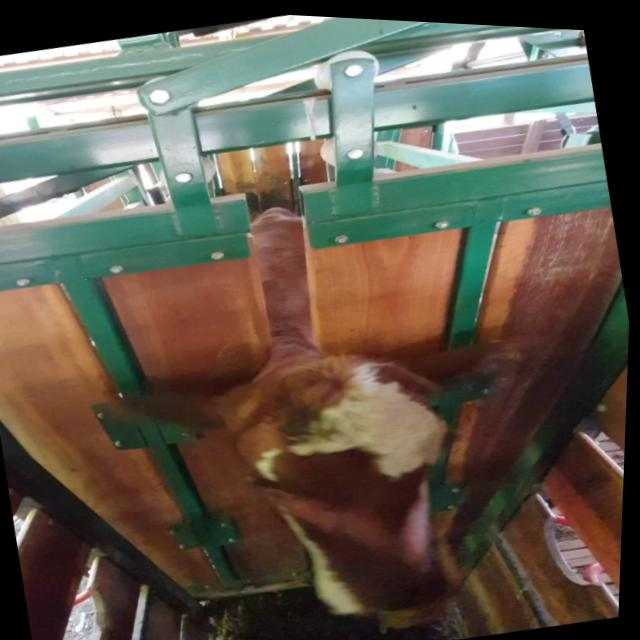cowFace: (231, 329, 490, 640)
